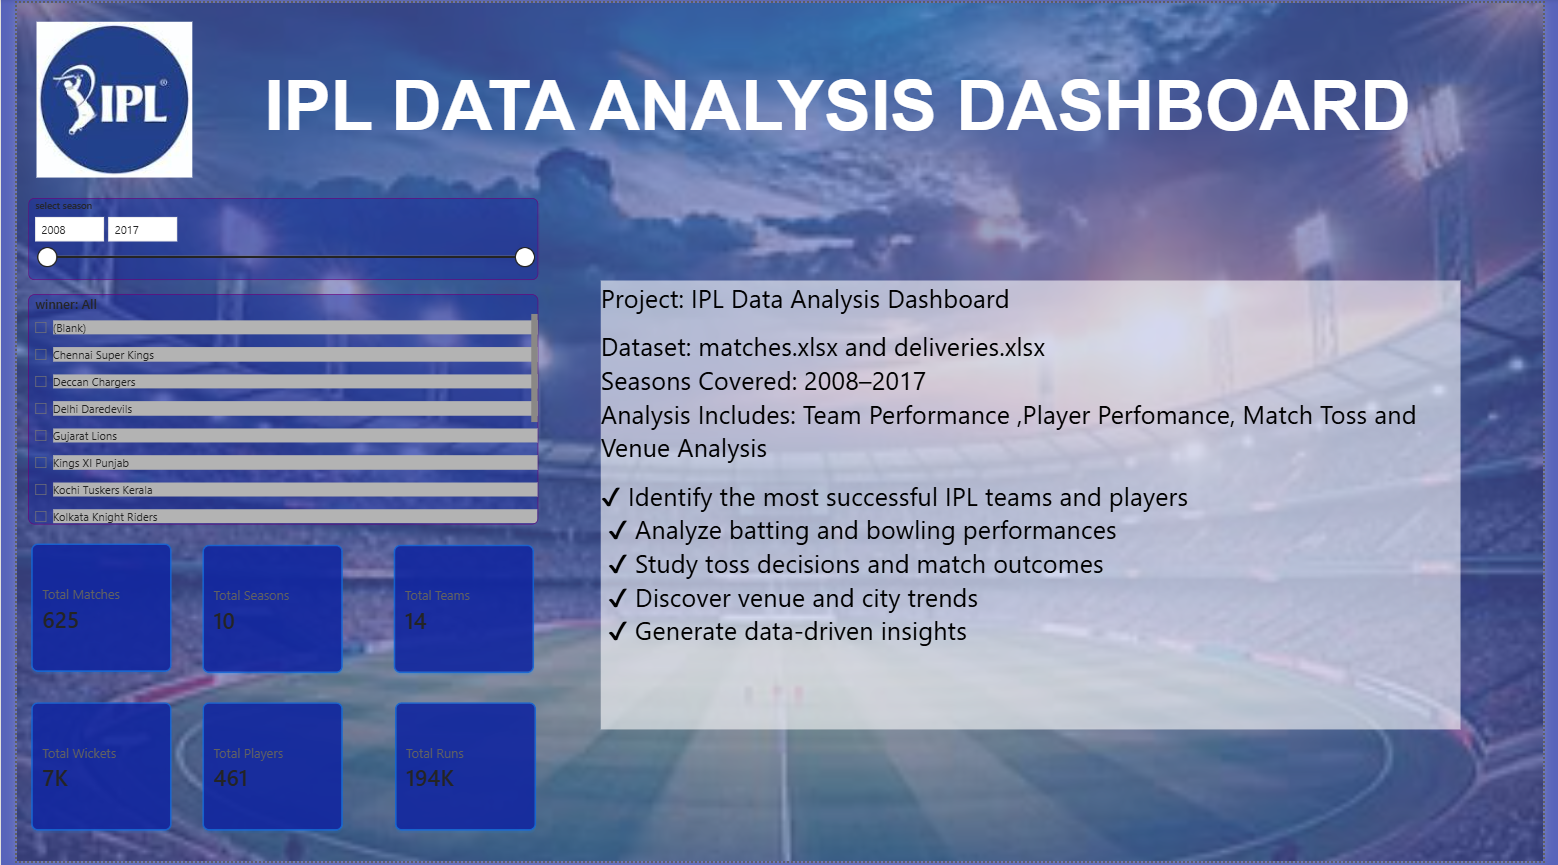

The dashboard page shown, as its layout file describes it:
{"tool":"powerbi","page":{"name":"home","canvas":[1920,1080],"ordinal":1},"visuals":[{"type":"image","box":[13.4,23.4,216.1,196],"z":0},{"type":"textbox","box":[247.9,23.4,1567.7,196],"z":1000},{"type":"cardVisual","fields":{"Data":["matches.Total Matches"]},"box":[14,676.7,184.9,169.2],"z":2000},{"type":"cardVisual","fields":{"Data":["matches.Total Seasons"]},"box":[230.2,678.5,184.9,169.2],"z":3000},{"type":"cardVisual","fields":{"Data":["matches.Total Teams"]},"box":[470.9,678.5,184.9,169.2],"z":4000},{"type":"cardVisual","fields":{"Data":["deliveries.Total Players"]},"box":[230.2,875.6,184.9,169.2],"z":5000},{"type":"cardVisual","fields":{"Data":["deliveries.Total Wickets"]},"box":[14,875.6,184.9,169.2],"z":6000},{"type":"slicer","fields":{"Values":["matches.season"]},"box":[14,245.9,641.9,102.9],"z":7000},{"type":"slicer","fields":{"Values":["matches.winner"]},"box":[14,366.3,641.9,289.5],"z":8000},{"type":"textbox","box":[734.3,348.8,1081.4,565.1],"z":9000},{"type":"cardVisual","fields":{"Data":["deliveries.Total Runs"]},"box":[471,876,185,169],"z":10000}]}

Visuals, with their boxes in screenshot pixels (x1, y1, x2, y2), scaled from the page's 1920x1080 canvas onto the 1558x865 screenshot:
image: [x1=11, y1=19, x2=186, y2=176]
textbox: [x1=201, y1=19, x2=1473, y2=176]
cardVisual - matches.Total Matches: [x1=11, y1=542, x2=161, y2=678]
cardVisual - matches.Total Seasons: [x1=187, y1=543, x2=337, y2=679]
cardVisual - matches.Total Teams: [x1=382, y1=543, x2=532, y2=679]
cardVisual - deliveries.Total Players: [x1=187, y1=701, x2=337, y2=837]
cardVisual - deliveries.Total Wickets: [x1=11, y1=701, x2=161, y2=837]
slicer - matches.season: [x1=11, y1=197, x2=532, y2=279]
slicer - matches.winner: [x1=11, y1=293, x2=532, y2=525]
textbox: [x1=596, y1=279, x2=1473, y2=732]
cardVisual - deliveries.Total Runs: [x1=382, y1=702, x2=532, y2=837]
